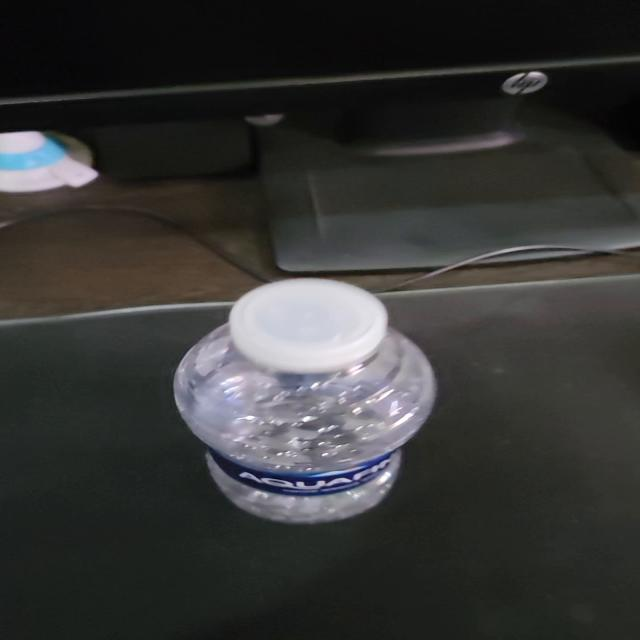Anorganik: (172, 276, 443, 527)
